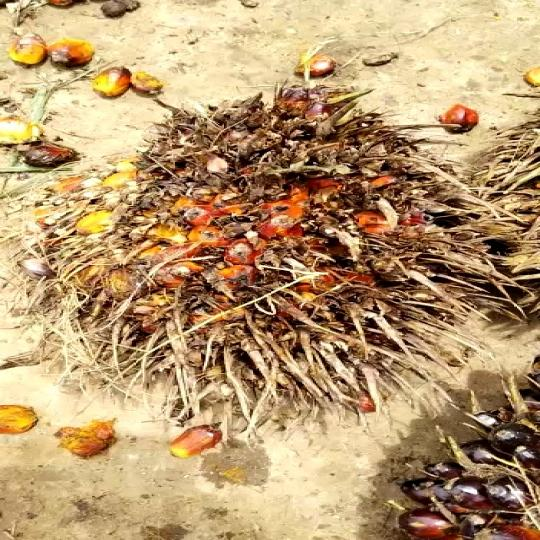terlalu masak: (0, 80, 540, 438)
